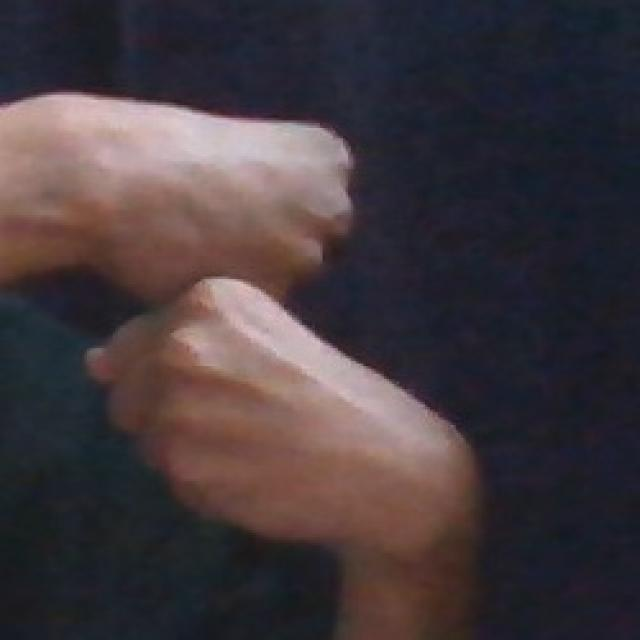Alphabet-g: (76, 66, 502, 579)
